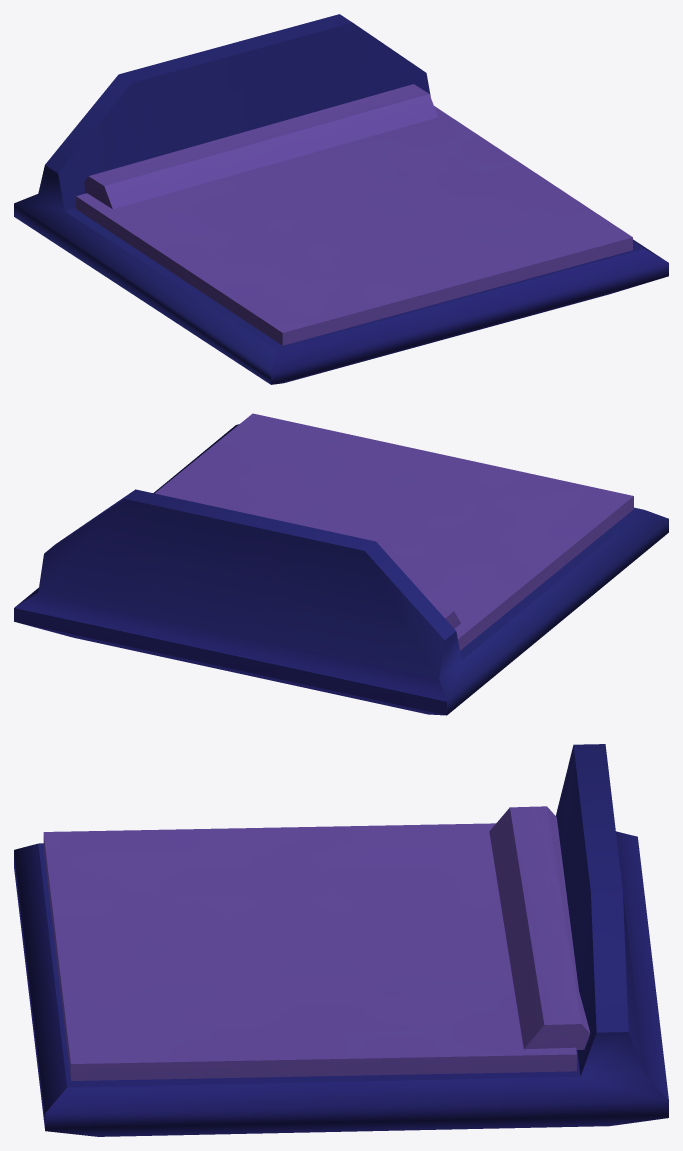
The model's file is bed.fbx.
3 renders of one model, top to bottom at view 1: azimuth 30°, elevation 25°; view 2: azimuth 150°, elevation 25°; view 3: azimuth 270°, elevation 25°, orthographic. The views are drawn at different scales.
Visible parts, largest first — view 1: bed; view 2: bed; view 3: bed.
Boxes of the visible parts, bbox=[...] form: bed: bbox=[14, 14, 668, 384]; bed: bbox=[14, 413, 668, 715]; bed: bbox=[14, 744, 668, 1136].
Size of the model in its own units: 229 by 88.03 by 229.
